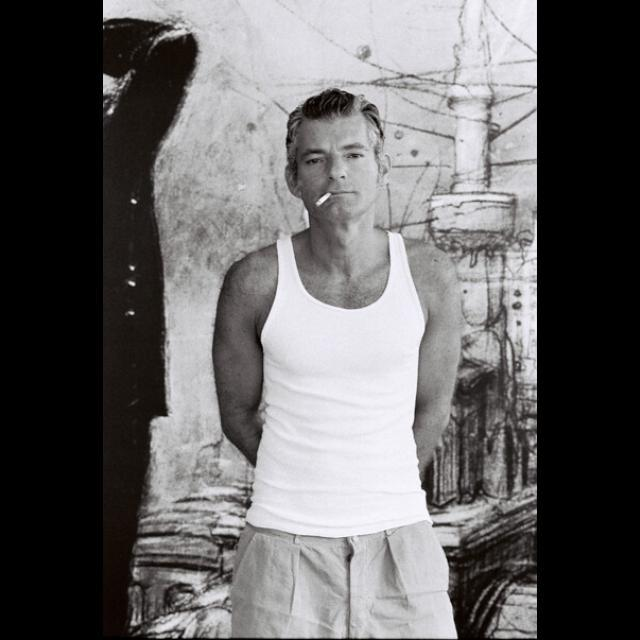rokok: (314, 190, 336, 206)
